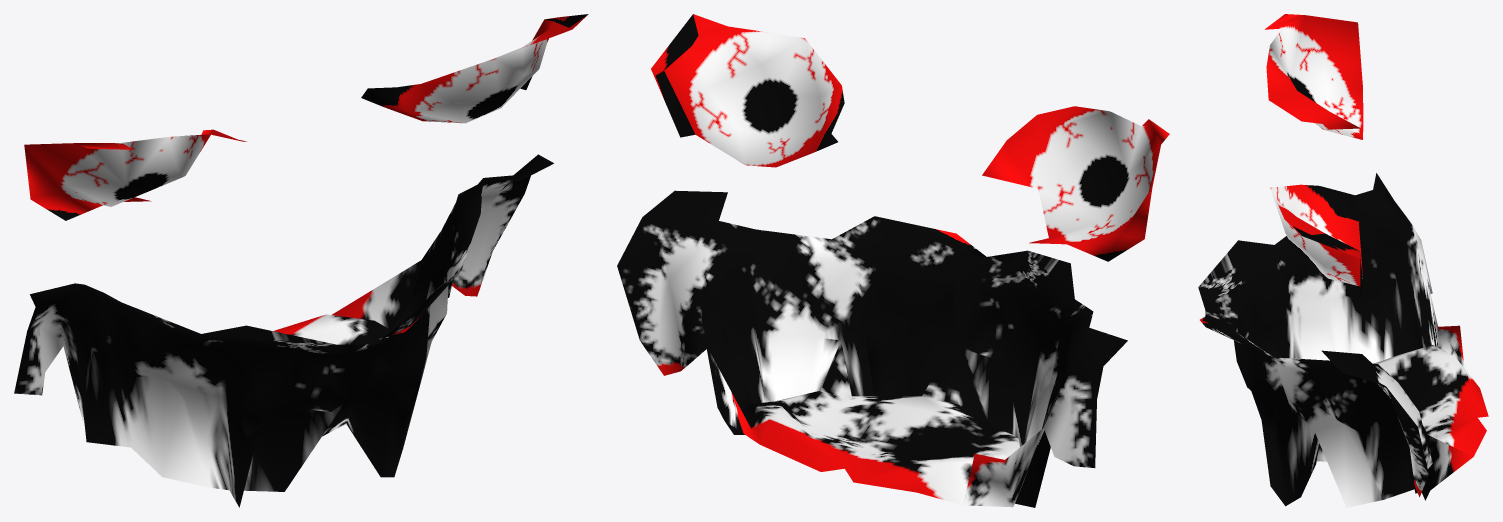
File: radfacetop.glb
3 views of the same model, side by side, from view 1: azimuth 30°, elevation 25°; view 2: azimuth 150°, elevation 25°; view 3: azimuth 270°, elevation 25° (orthographic). The views are drawn at different scales.
Visible parts, largest first — view 1: Mesh1.001; view 2: Mesh1.001; view 3: Mesh1.001.
Boxes of the visible parts, <box> form: Mesh1.001: <box>14,14,588,507</box>; Mesh1.001: <box>617,14,1169,507</box>; Mesh1.001: <box>1198,14,1488,507</box>.
Bounding box in the file's own units: 3.7 × 2.71 × 1.94.
1 material, 1 textured.
